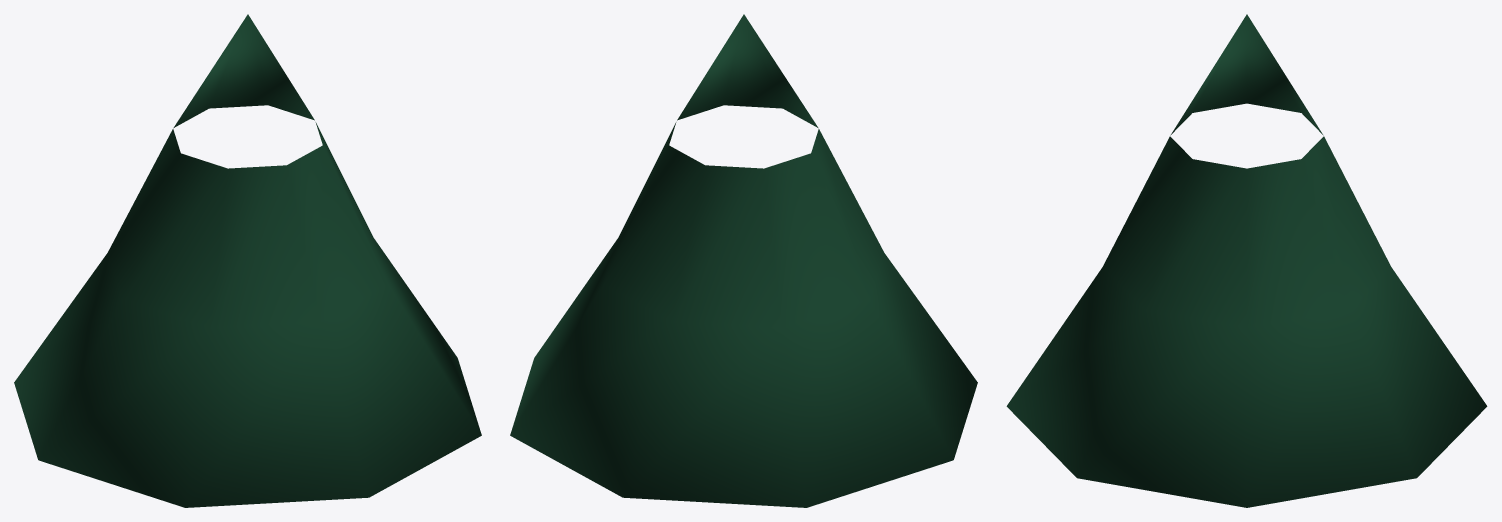
Rendered from conifer-column.gltf.
3 views of the same model, side by side, from view 1: azimuth 30°, elevation 25°; view 2: azimuth 150°, elevation 25°; view 3: azimuth 270°, elevation 25° (orthographic).
Parts seen in each view (by area): view 1: conifer-column; view 2: conifer-column; view 3: conifer-column.
Boxes of the visible parts, x1,y1,x2,y2 form: conifer-column: [14, 14, 481, 507]; conifer-column: [510, 14, 977, 507]; conifer-column: [1006, 14, 1487, 507].
Size of the model in its own units: 1 by 1 by 1.
